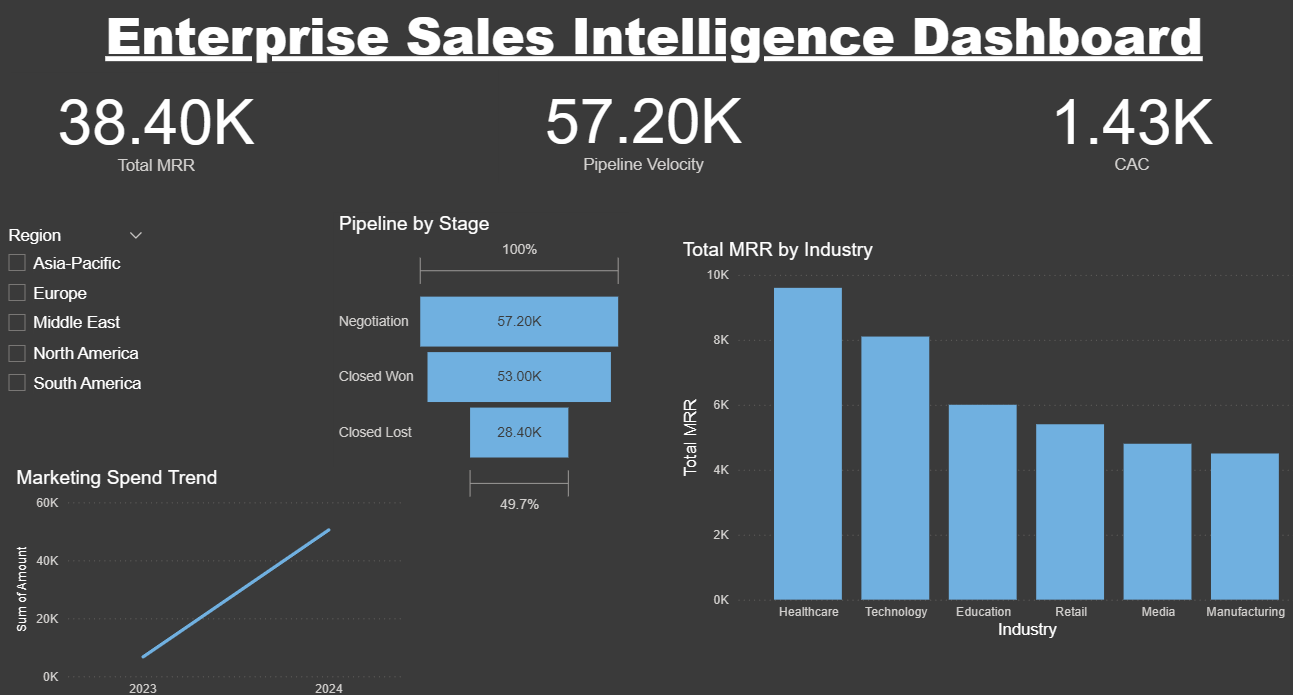

Layout of this report page (visuals, bound fields, positions):
{"tool":"powerbi","page":{"name":"Dashboard","canvas":[1280,720],"ordinal":1},"visuals":[{"type":"card","fields":{"Values":["Opportunities.Pipeline Velocity"]},"box":[485.8,73,279.9,109.8],"z":0},{"type":"card","fields":{"Values":["MarketingSpend.CAC"]},"box":[956.4,75,281.3,105.7],"z":1000},{"type":"card","fields":{"Values":["Subscriptions.Total MRR"]},"box":[15.1,75.7,279.9,104.3],"z":2000},{"type":"slicer","fields":{"Values":["Customers.Region"]},"box":[0,219.6,155.1,181.1],"z":3000},{"type":"clusteredColumnChart","fields":{"Category":["Customers.Industry"],"Y":["Subscriptions.Total MRR"]},"box":[658.7,236.5,621.3,390.9],"z":4000},{"type":"funnel","title":"Pipeline by Stage","fields":{"Category":["Opportunities.Stage"],"Y":["Sum(Opportunities.DealValue)"]},"box":[326.9,211.1,284.7,296.8],"z":5000},{"type":"lineChart","title":"Marketing Spend Trend","fields":{"Category":["MarketingSpend.SpendDate.Variation.Date Hierarchy.Year","MarketingSpend.SpendDate.Variation.Date Hierarchy.Quarter","MarketingSpend.SpendDate.Variation.Date Hierarchy.Month","MarketingSpend.SpendDate.Variation.Date Hierarchy.Day"],"Y":["Sum(MarketingSpend.Amount)"]},"box":[15.7,456,383.6,241.3],"z":6000},{"type":"textbox","box":[0,0,1280,71.3],"z":7000}]}

Visuals, with their boxes on the page's 1280x720 design canvas (x1, y1, x2, y2). These are canvas units, not pixel positions in the 1293x695 screenshot, which may show the page scaled, cropped or inside an application window:
card - Opportunities.Pipeline Velocity: l=486, t=73, r=766, b=183
card - MarketingSpend.CAC: l=956, t=75, r=1238, b=181
card - Subscriptions.Total MRR: l=15, t=76, r=295, b=180
slicer - Customers.Region: l=0, t=220, r=155, b=401
clusteredColumnChart - Customers.Industry x Subscriptions.Total MRR: l=659, t=236, r=1280, b=627
"Pipeline by Stage" funnel: l=327, t=211, r=612, b=508
"Marketing Spend Trend" lineChart: l=16, t=456, r=399, b=697
textbox: l=0, t=0, r=1280, b=71
